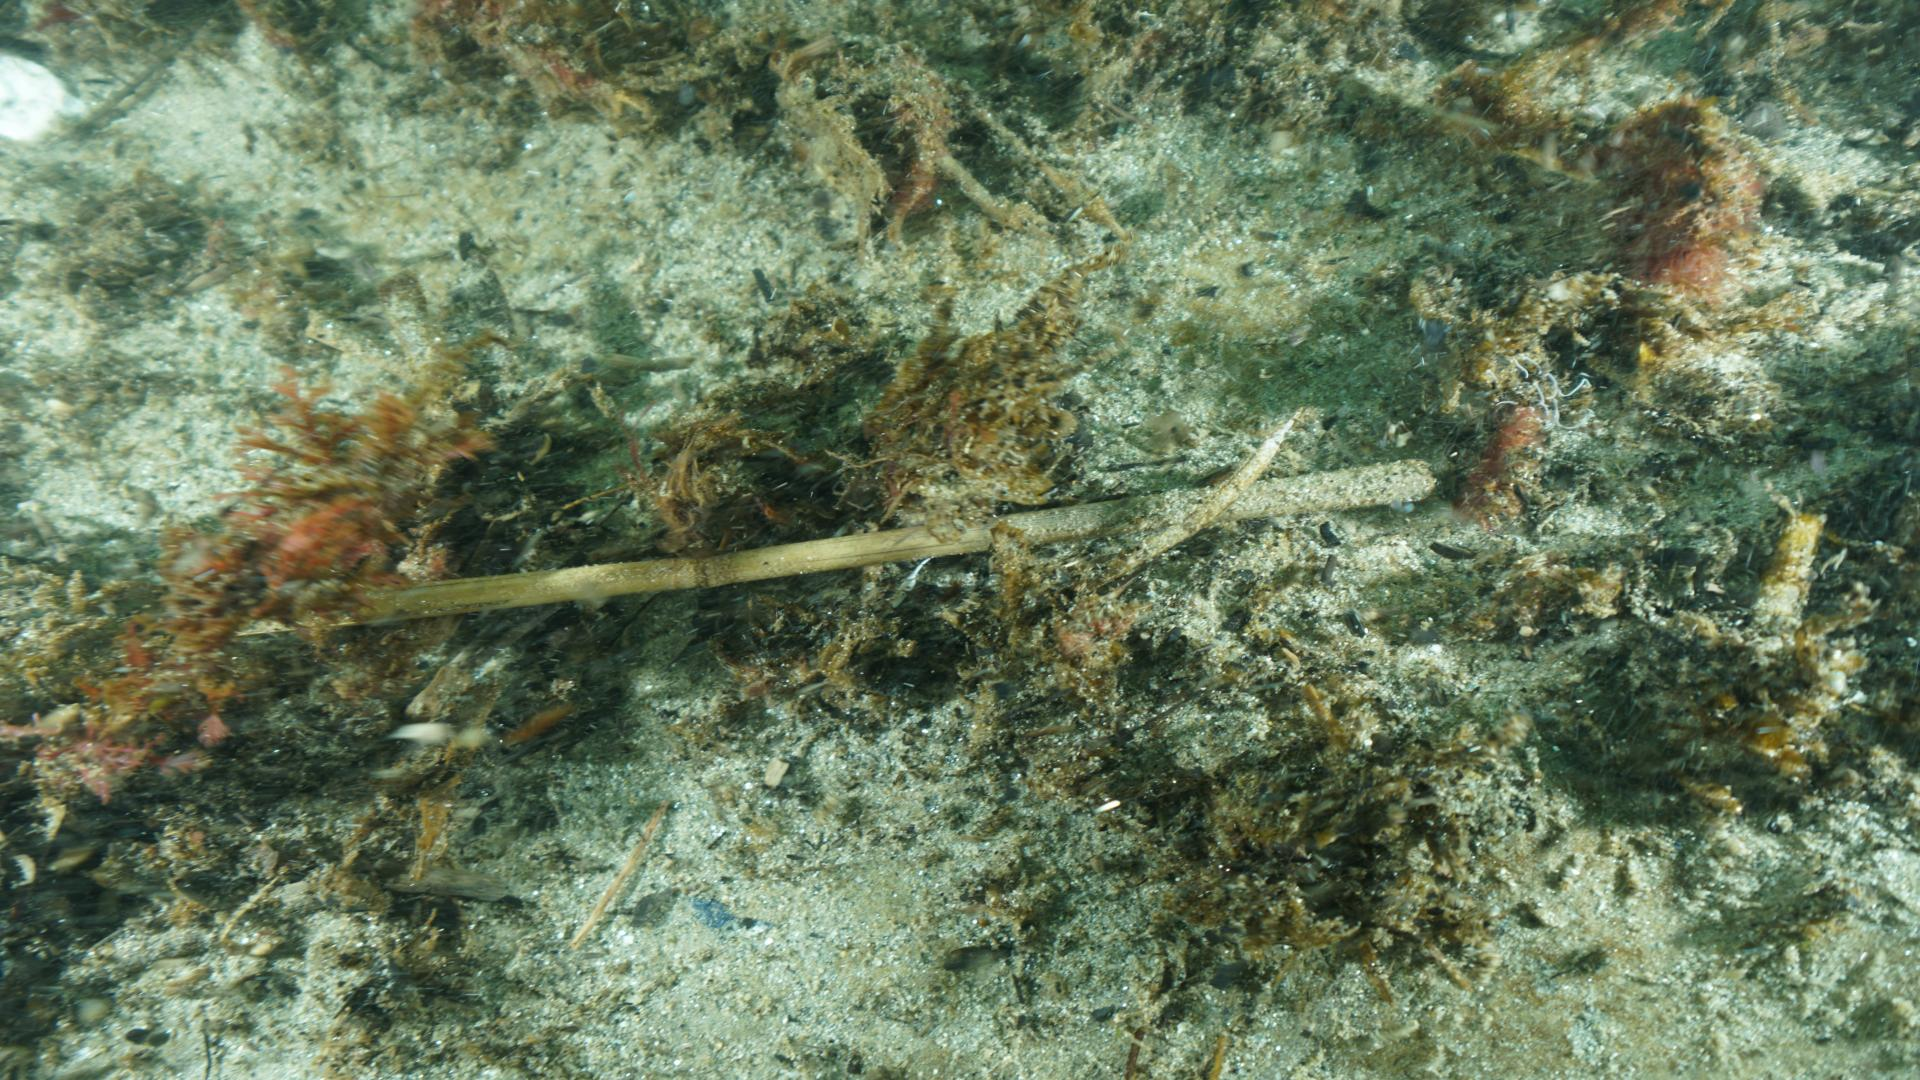wood: (228, 456, 1435, 636)
